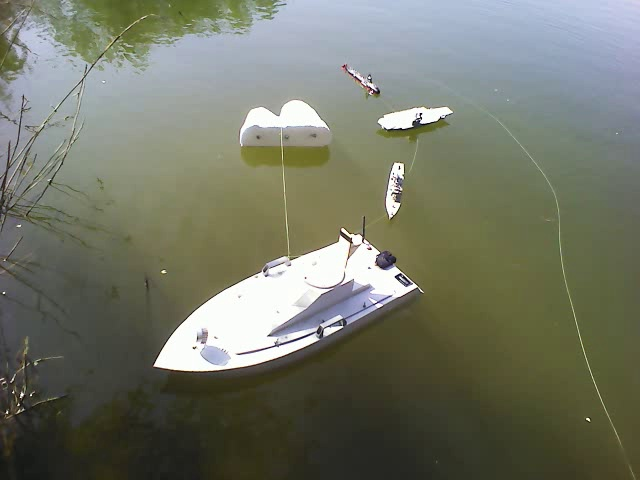aircraft_carrier: (376, 104, 452, 132)
boat: (150, 232, 423, 378)
iceberg: (237, 99, 333, 153)
submarine: (342, 61, 383, 96)
warship: (384, 158, 409, 224)
